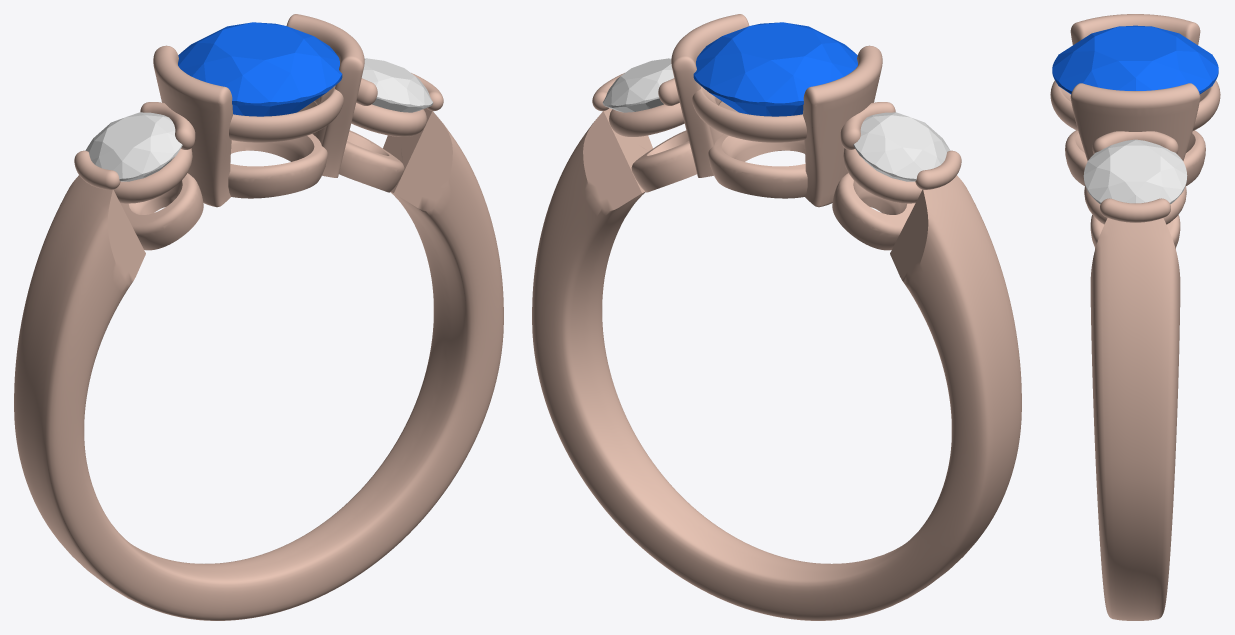
File: bluesapphire-round-rosegold-halfmoonbezel-taperedband-2stone.glb
3 views of the same model, side by side, from view 1: azimuth 30°, elevation 25°; view 2: azimuth 150°, elevation 25°; view 3: azimuth 270°, elevation 25° (orthographic). The views are drawn at different scales.
Parts seen in each view (by area): view 1: metal, stone, side.001, side; view 2: metal, stone, side.001, side; view 3: metal, stone, side.
Part boxes in pixels (x1=…): metal: x1=14, y1=14, x2=503, y2=620; stone: x1=178, y1=22, x2=342, y2=116; side.001: x1=85, y1=112, x2=182, y2=181; side: x1=361, y1=58, x2=433, y2=112; metal: x1=532, y1=14, x2=1021, y2=620; stone: x1=693, y1=22, x2=857, y2=116; side.001: x1=853, y1=112, x2=950, y2=181; side: x1=602, y1=58, x2=674, y2=112; metal: x1=1050, y1=14, x2=1220, y2=620; stone: x1=1052, y1=25, x2=1218, y2=94; side: x1=1083, y1=139, x2=1187, y2=203.
Size of the model in its own units: 20.1 by 23.61 by 6.58.
